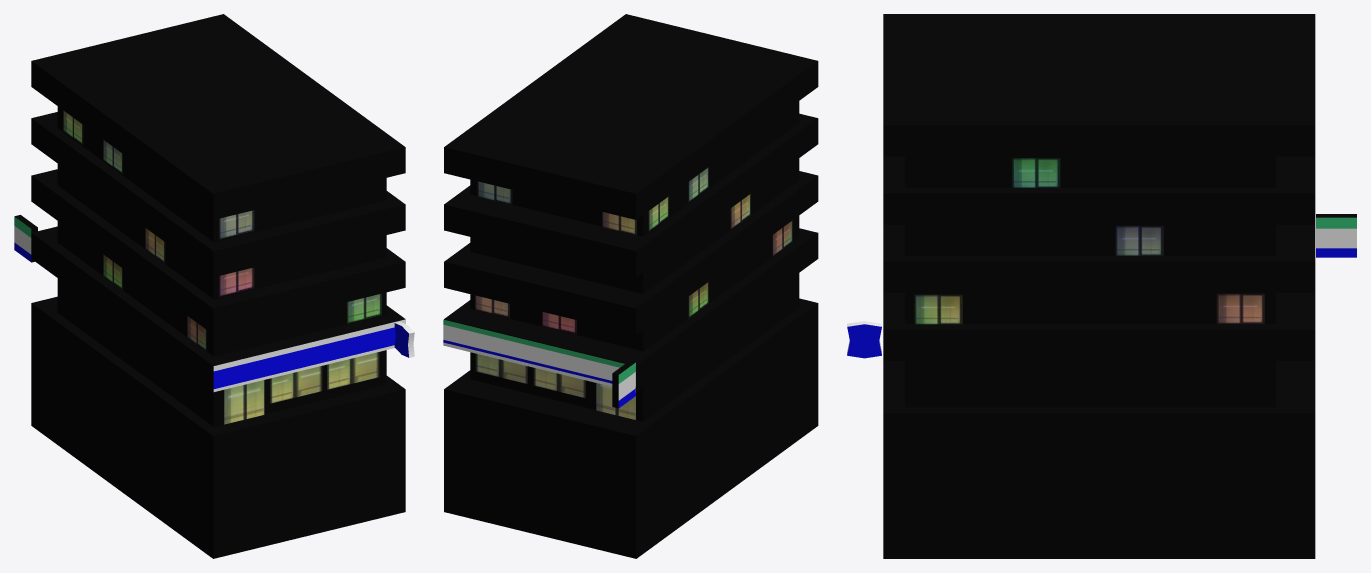
File: AMB_MANSYON_KONBINI.glb
3 renders of one model, left to right at view 1: azimuth 30°, elevation 25°; view 2: azimuth 150°, elevation 25°; view 3: azimuth 270°, elevation 25°, orthographic. The views are drawn at different scales.
Visible parts, largest first — view 1: OBJ; view 2: OBJ; view 3: OBJ.
Boxes of the visible parts, x1=… form: OBJ: x1=14, y1=14, x2=414, y2=558; OBJ: x1=443, y1=14, x2=818, y2=558; OBJ: x1=847, y1=14, x2=1356, y2=558.
Size of the model in its own units: 49.1 by 89.09 by 94.93.
Materials: 5 (5 with a texture image).
